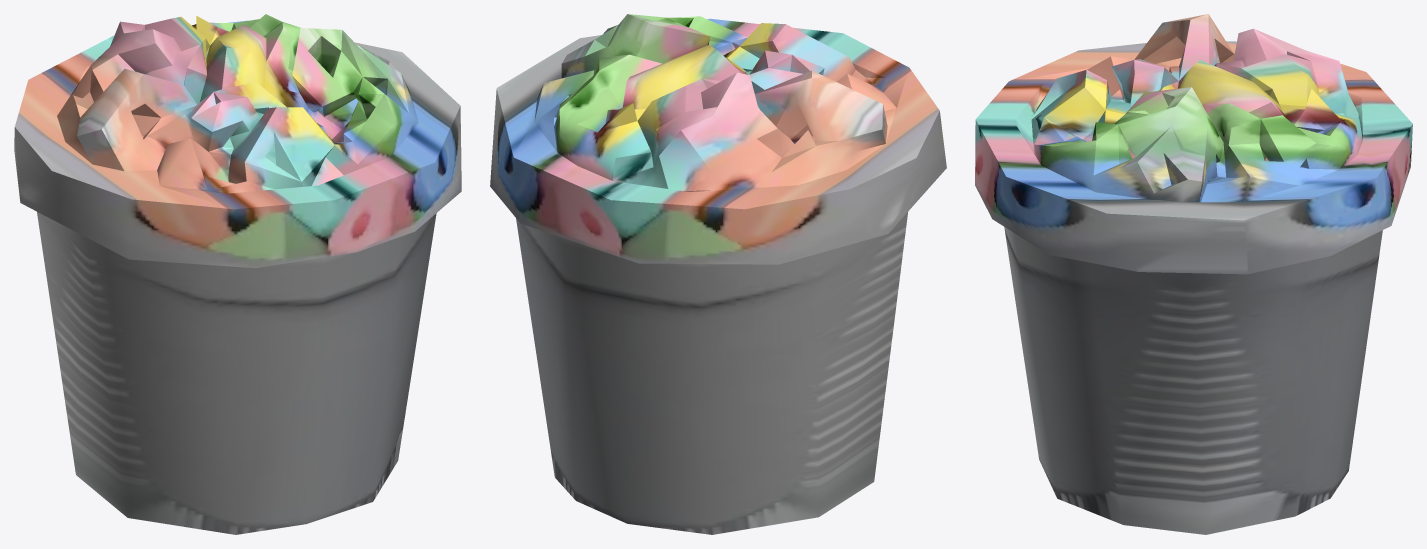
3 views of the same model, side by side, from view 1: azimuth 30°, elevation 25°; view 2: azimuth 150°, elevation 25°; view 3: azimuth 270°, elevation 25° (orthographic). The views are drawn at different scales.
Visible parts, largest first — view 1: Decor_hold_bucket; view 2: Decor_hold_bucket; view 3: Decor_hold_bucket.
Part boxes in pixels (box(x1,y1,x2,y2)): Decor_hold_bucket: box(14, 14, 461, 534); Decor_hold_bucket: box(490, 14, 946, 534); Decor_hold_bucket: box(975, 14, 1412, 534).
Size of the model in its own units: 0.4742 by 0.5035 by 0.4815.
Materials: 1 (1 with a texture image).
